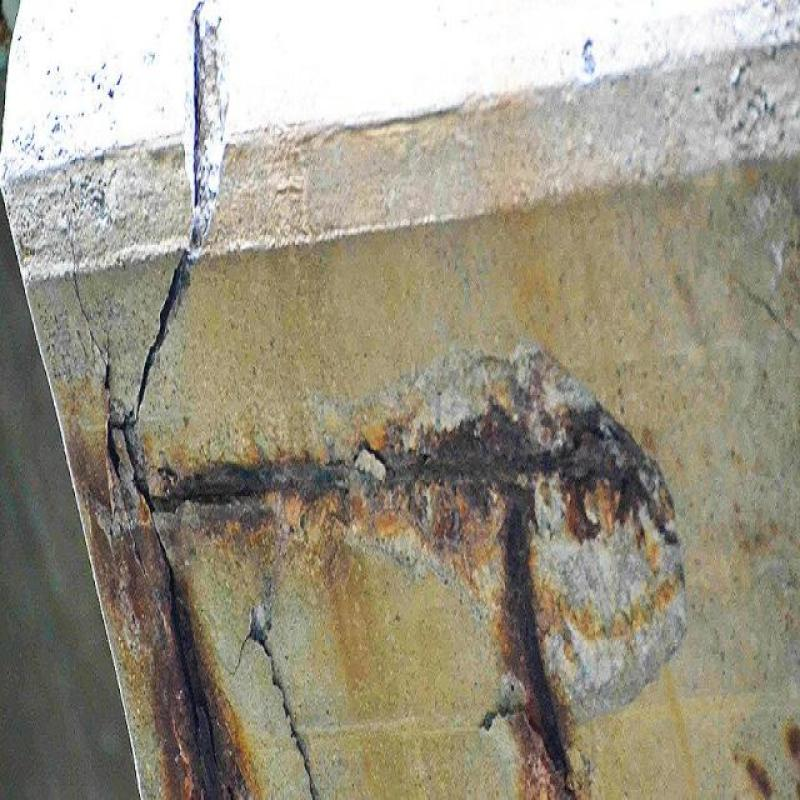Fracture: (330, 407, 700, 538), (160, 15, 248, 427), (493, 565, 585, 760), (165, 563, 240, 775), (193, 210, 222, 225)
